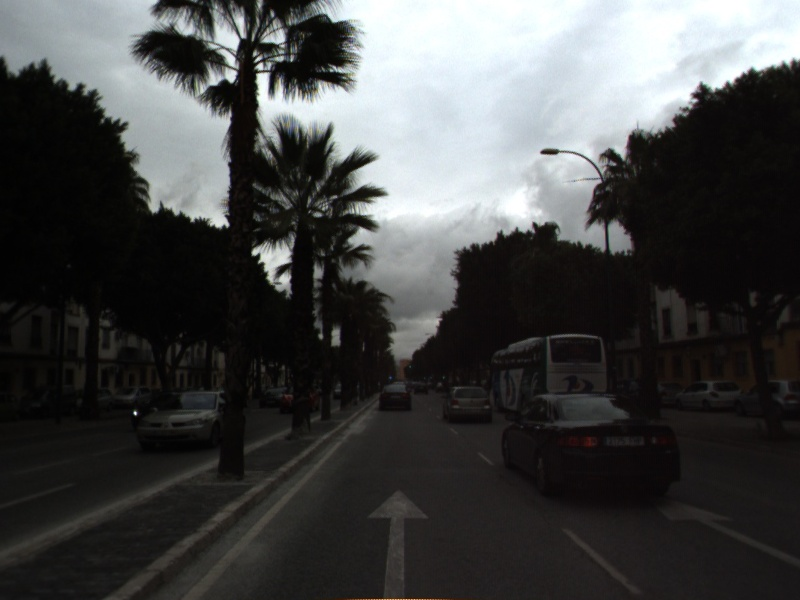STRAIGHT: (648, 493, 800, 567), (365, 486, 432, 600)
